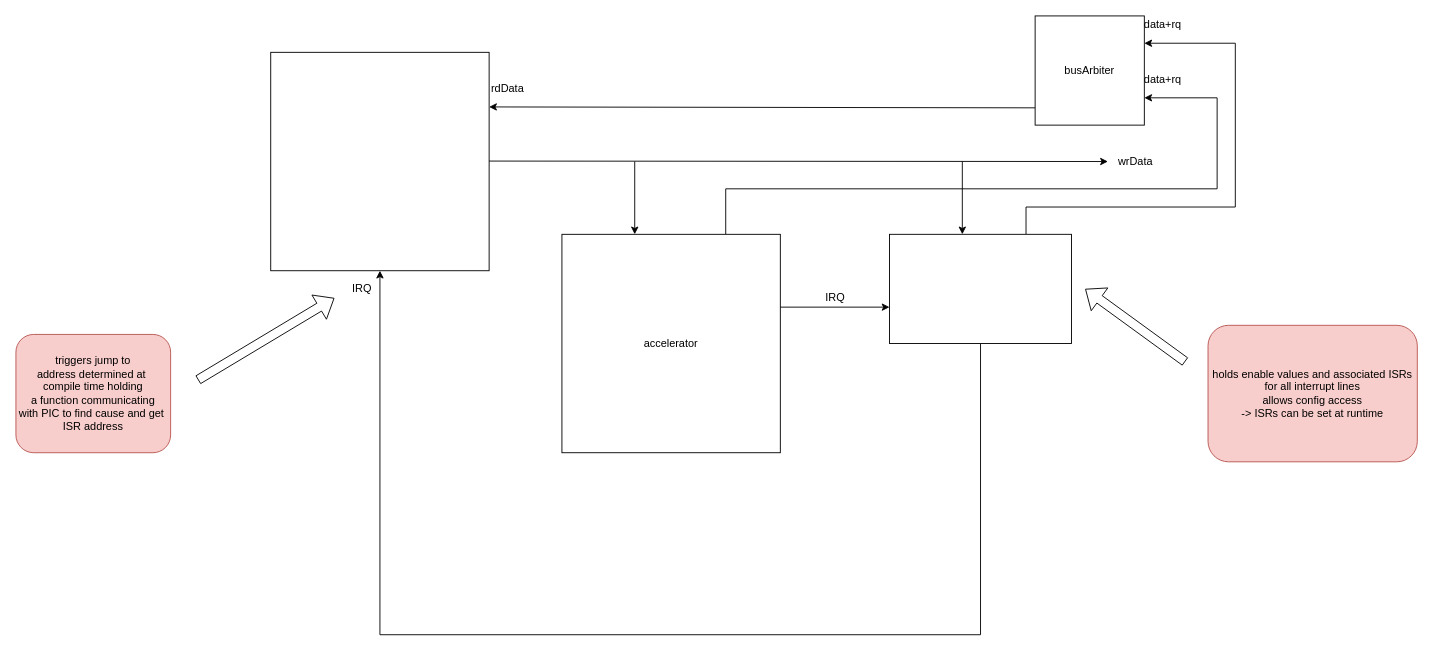
Some shapes in this 1433 by 658 pixel diagram are drawn without their labels. The shapes that lost their labels are listed below. From the top down, each one's centre as x and y in pixels, then its label:
At [379,161]: "Processor".
At [980,288]: "Programmable interrupt controller".
